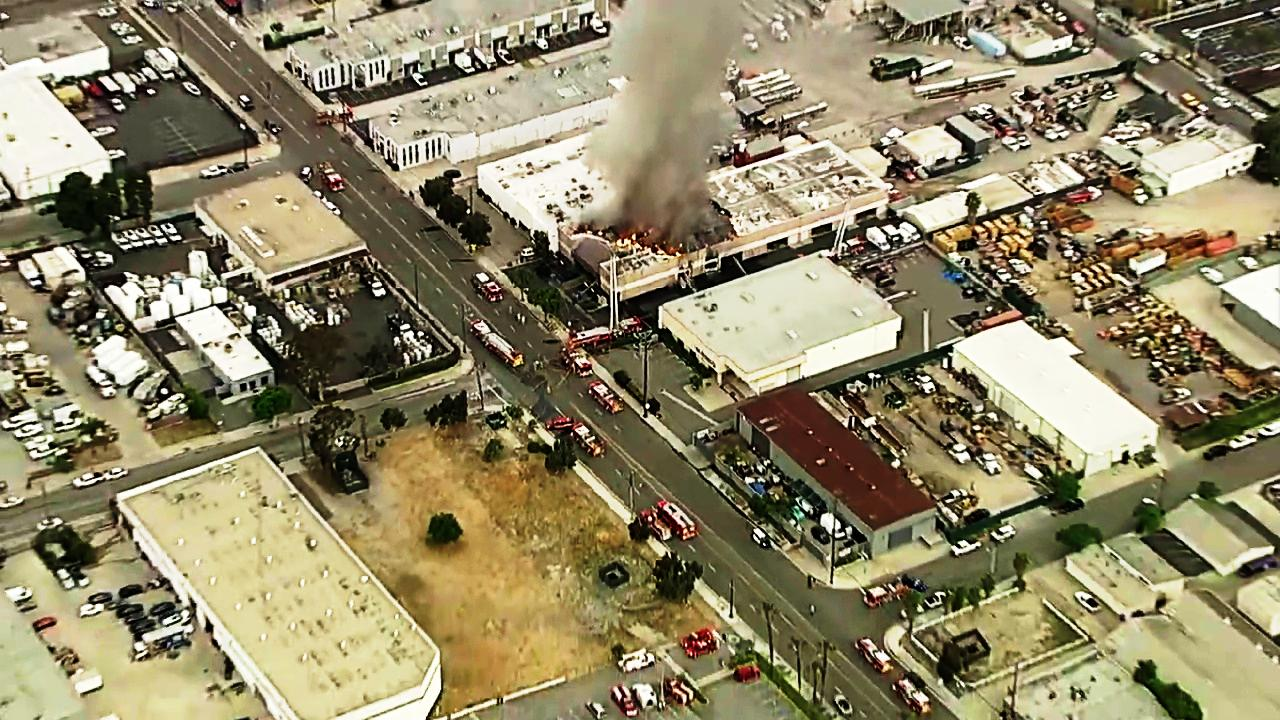smoke: (629, 23, 718, 220)
